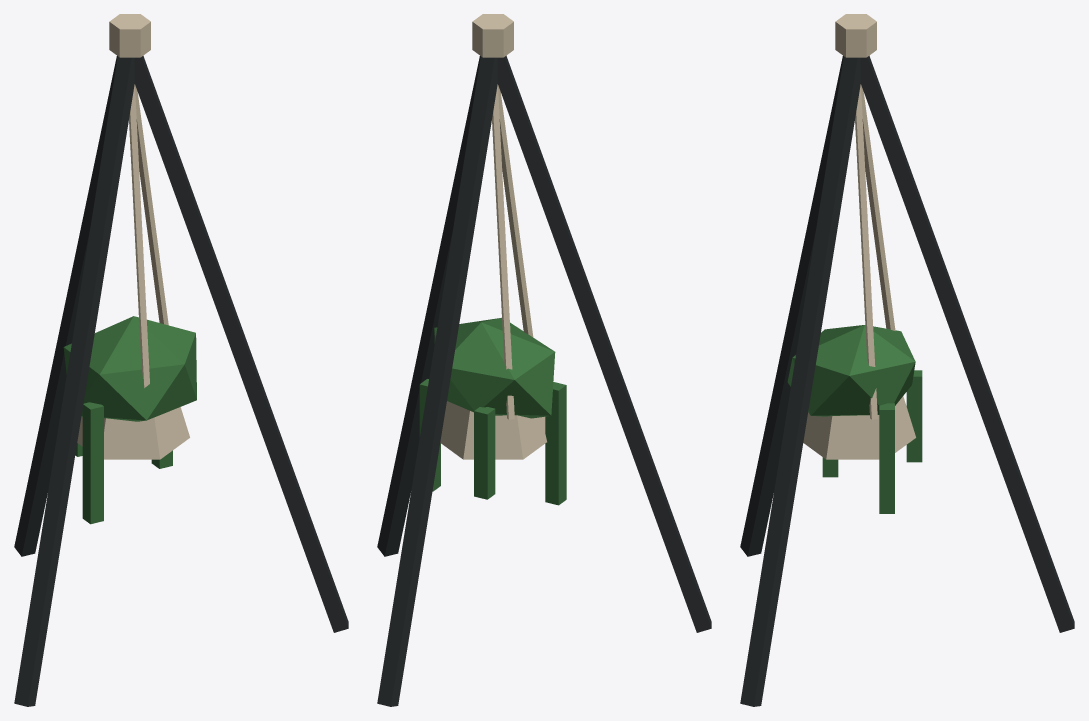
File: plant-hanger-13.glb
3 renders of one model, left to right at view 1: azimuth 30°, elevation 25°; view 2: azimuth 150°, elevation 25°; view 3: azimuth 270°, elevation 25°, orthographic.
Parts seen in each view (by area): view 1: plant_hanger_13; view 2: plant_hanger_13; view 3: plant_hanger_13.
Boxes of the visible parts, left/top/right/bottom form: plant_hanger_13: left=14, top=14, right=348, bottom=706; plant_hanger_13: left=377, top=14, right=711, bottom=706; plant_hanger_13: left=740, top=14, right=1074, bottom=706.
Size of the model in its own units: 0.7413 by 1.29 by 0.6421.
